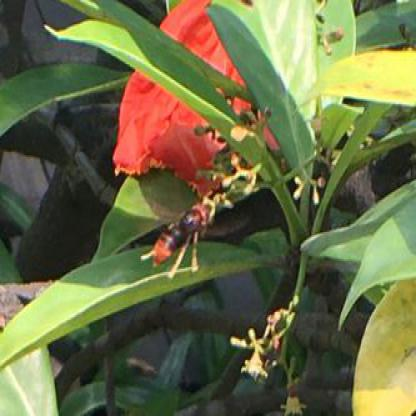Asian Hornet: (140, 191, 218, 285)
